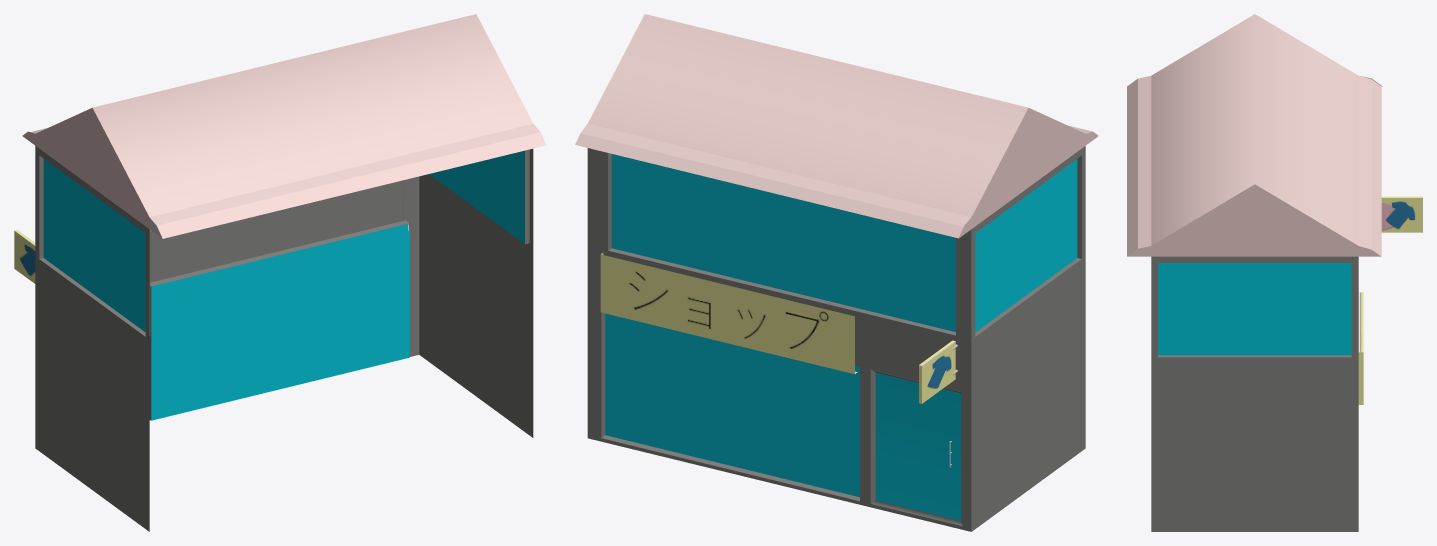
The model's file is building_clothesShop.fbx.
3 views of the same model, side by side, from view 1: azimuth 30°, elevation 25°; view 2: azimuth 150°, elevation 25°; view 3: azimuth 270°, elevation 25° (orthographic). The views are drawn at different scales.
Parts seen in each view (by area): view 1: buildings_clothesShop; view 2: buildings_clothesShop; view 3: buildings_clothesShop.
Part boxes in pixels (left/top/right/bottom): buildings_clothesShop: left=14, top=14, right=546, bottom=531; buildings_clothesShop: left=575, top=14, right=1098, bottom=531; buildings_clothesShop: left=1127, top=14, right=1422, bottom=531.
Size of the model in its own units: 523 by 498 by 384.
Materials: 1 (1 with a texture image).
